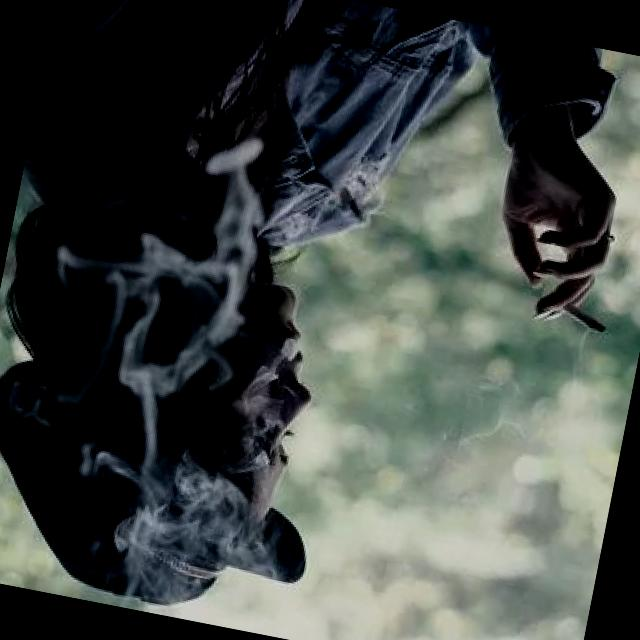cigarette: (546, 290, 615, 343)
